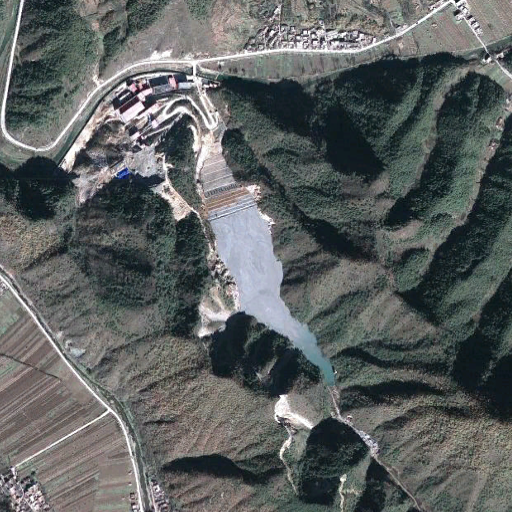tp: (200, 145, 336, 386)
